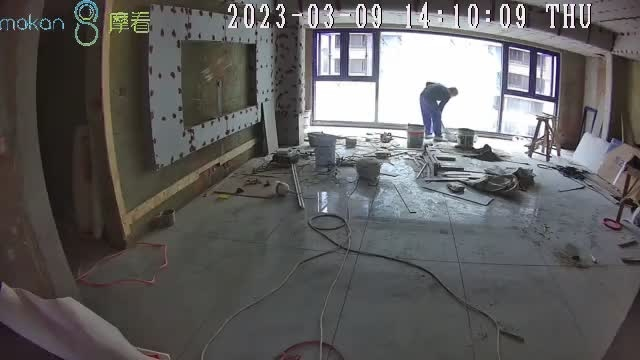people: (418, 81, 459, 140)
window: (312, 27, 560, 138)
